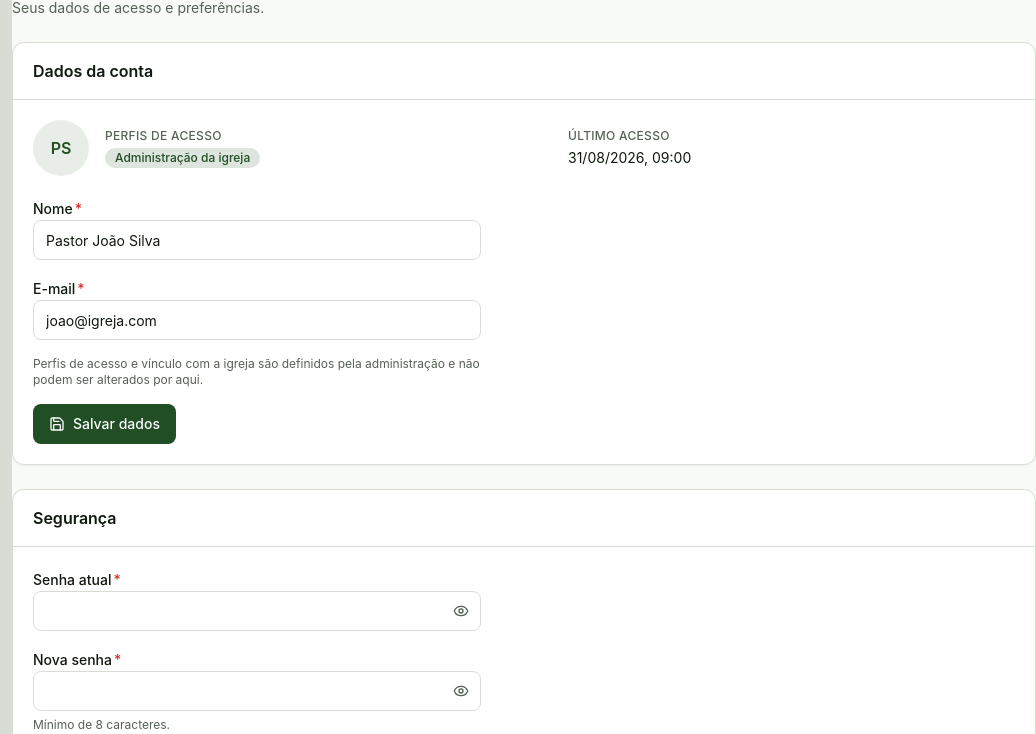
it: minha conta › mostra a mensagem da API quando a senha atual está errada
The image size is (1036, 734).
Type "errada12345" into the password field labelled "Senha atual*".
click(257, 611); type("errada12345")  # box [33, 591, 481, 631]
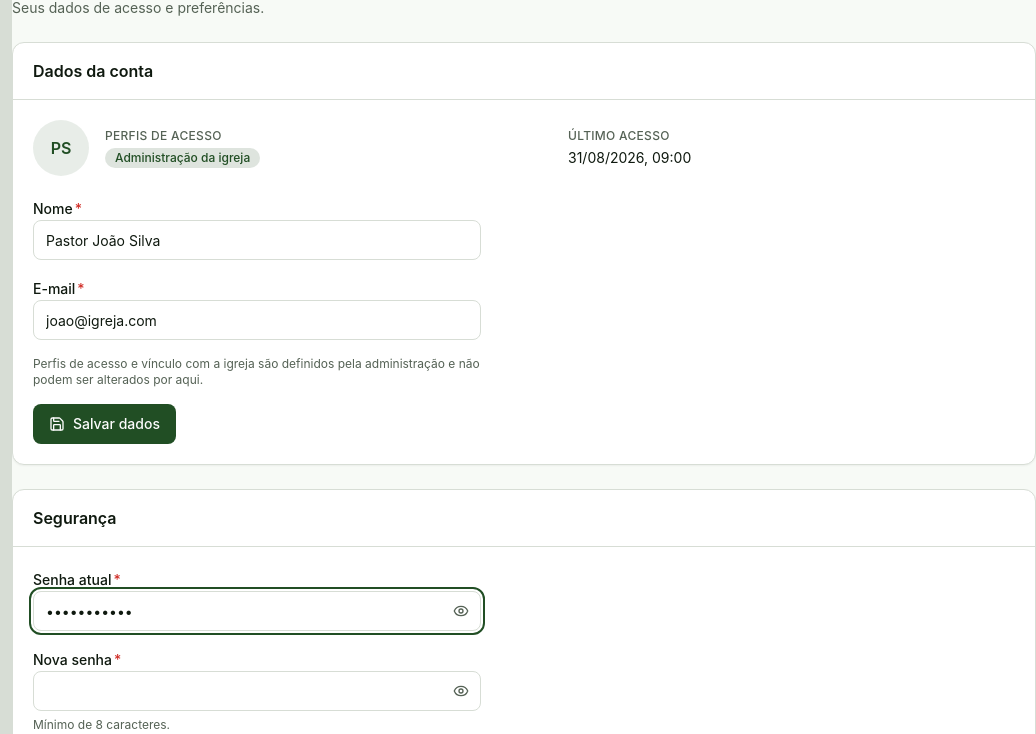
Type "senhaNova123" into the password field labelled "Nova senha*".
click(257, 691); type("senhaNova123")  # box [33, 671, 481, 711]
(page scrolled)
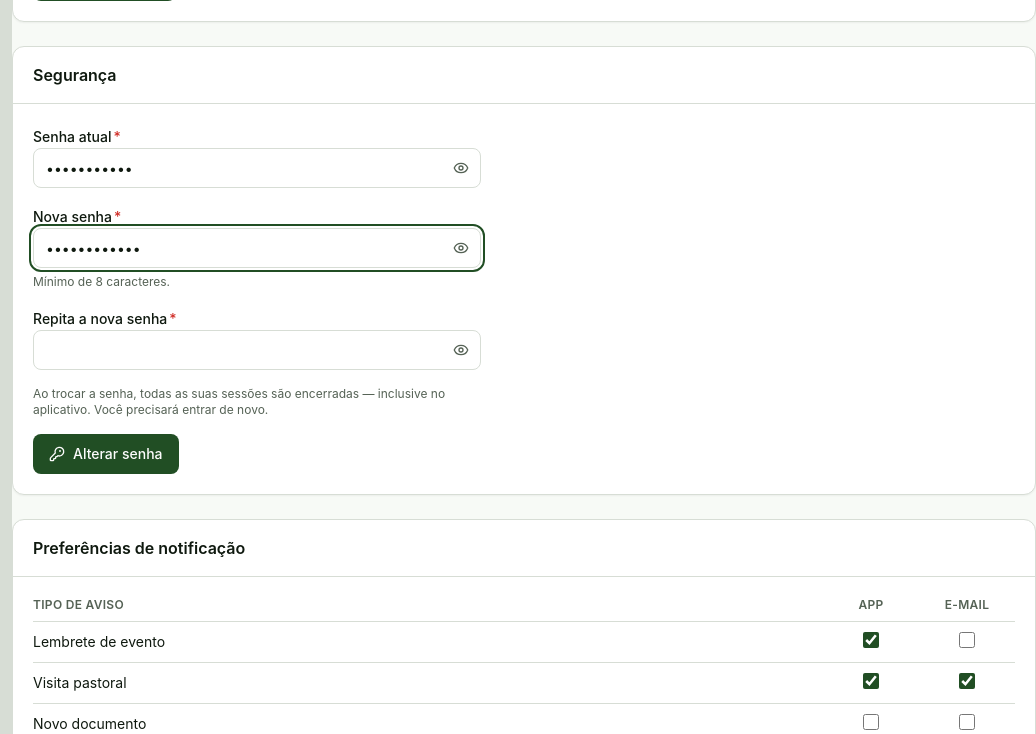
Type "senhaNova123" into the password field labelled "Repita a nova senha*".
click(257, 350); type("senhaNova123")  # box [33, 330, 481, 370]
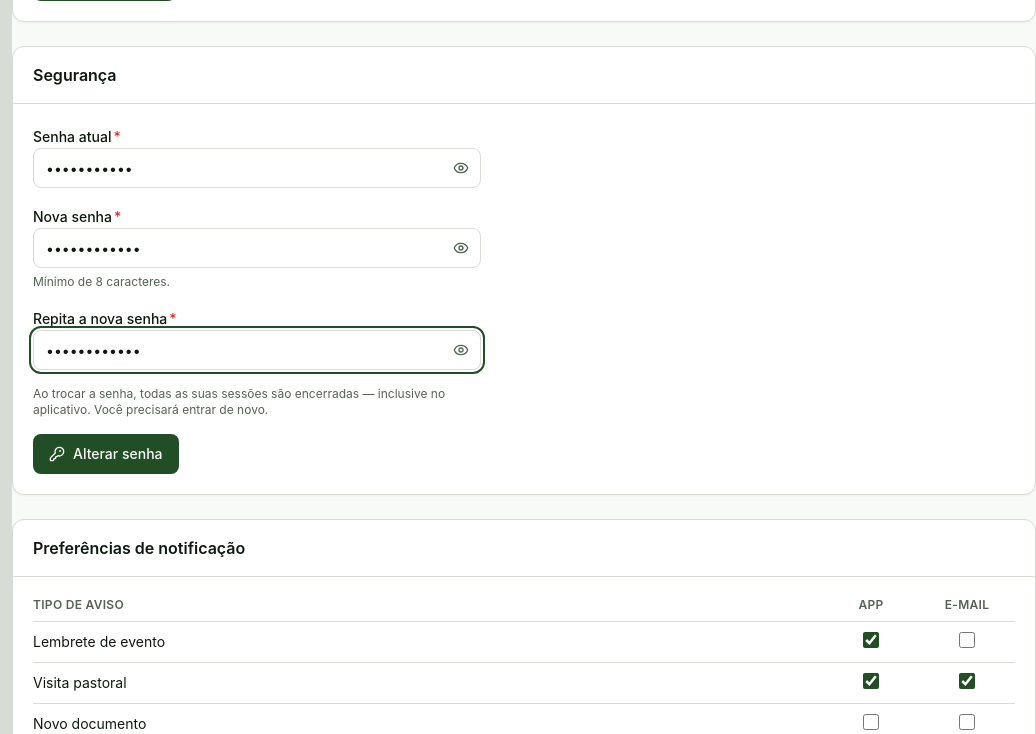
Click the button "Alterar senha".
click(106, 454)  # box [33, 434, 178, 474]
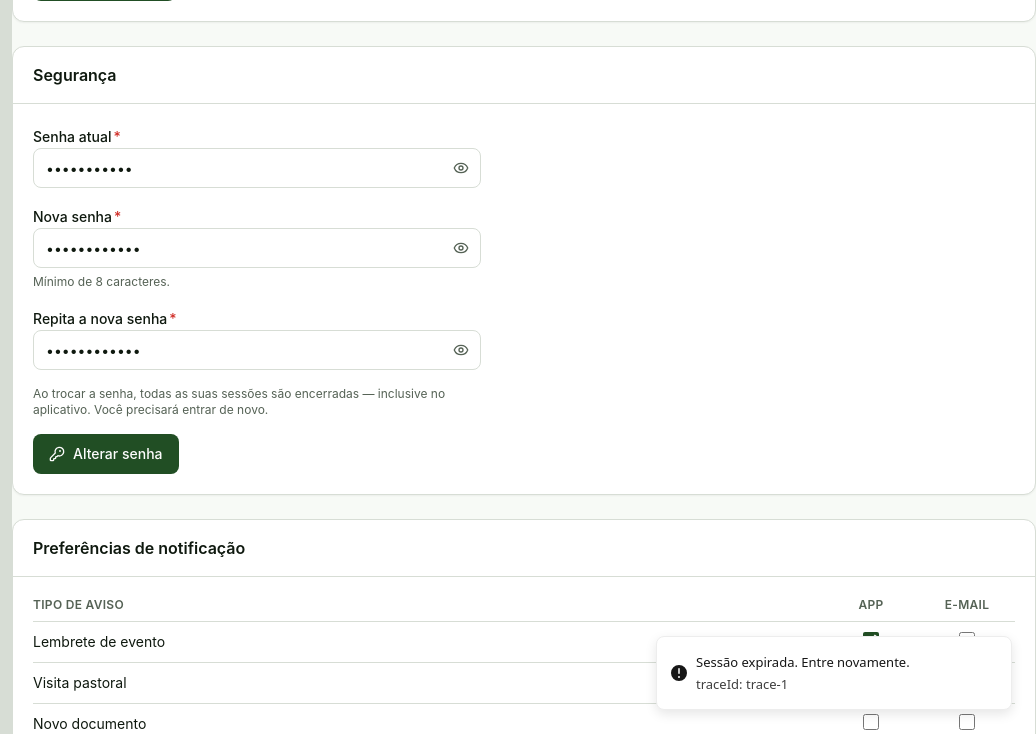
Check: the text "Sessão expirada. Entre novamente." is shown, box [696, 653, 910, 673]
